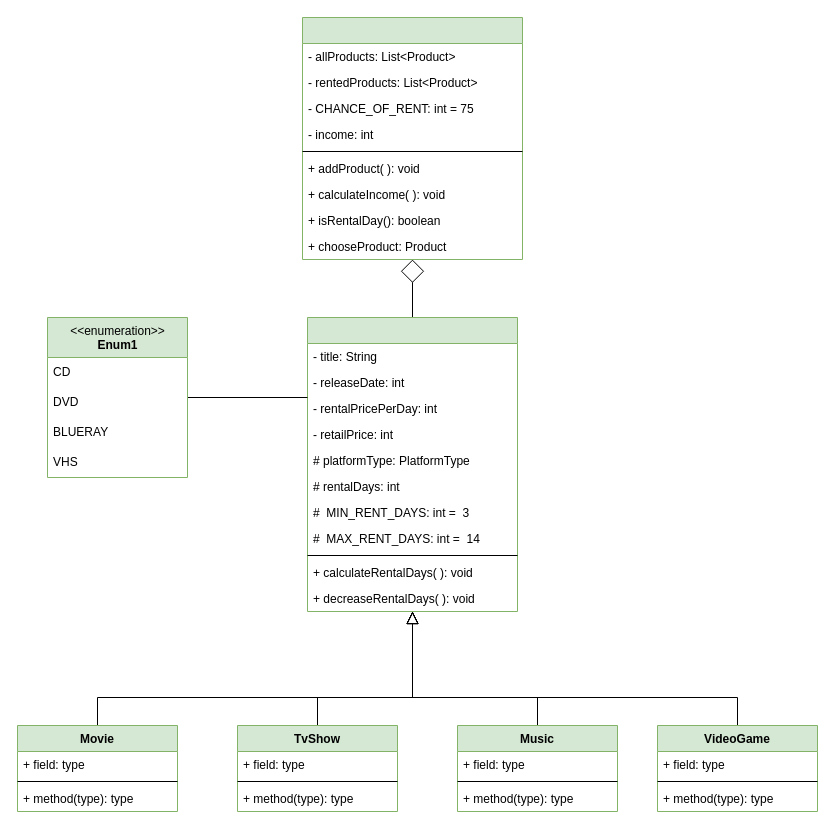
Some shapes in this 835 by 832 pixel diagram are drawn without their labels. The box of each missing label's shape, as (x1, y1, x2, y2) in pixels:
Product: (306, 316, 518, 612)
Store: (302, 16, 522, 260)
